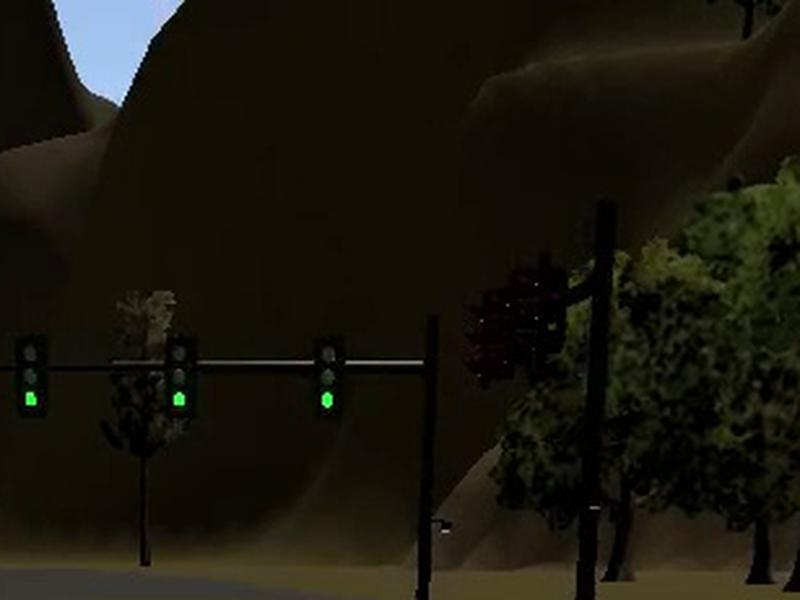Green: (163, 336, 199, 418), (15, 335, 49, 418), (315, 336, 344, 419)
